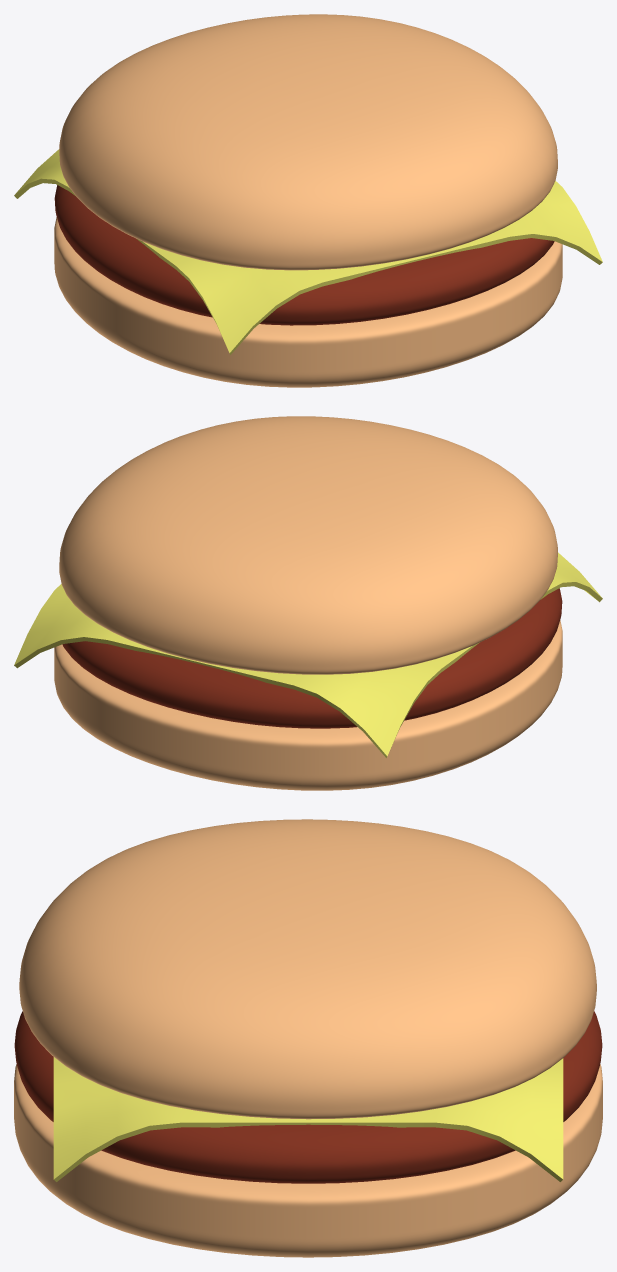
The model's file is humberger.glb.
3 renders of one model, top to bottom at view 1: azimuth 30°, elevation 25°; view 2: azimuth 150°, elevation 25°; view 3: azimuth 270°, elevation 25°, orthographic. The views are drawn at different scales.
Parts seen in each view (by area): view 1: Cube.002, Cube, Cube.001, Plane; view 2: Cube.002, Cube, Cube.001, Plane; view 3: Cube.002, Cube, Cube.001, Plane.
Boxes of the visible parts, x1,y1,x2,y2 form: Cube.002: [59, 14, 557, 270]; Cube: [54, 217, 562, 387]; Cube.001: [54, 185, 554, 325]; Plane: [14, 149, 602, 354]; Cube.002: [59, 416, 557, 674]; Cube: [54, 620, 562, 790]; Cube.001: [62, 588, 562, 728]; Plane: [14, 552, 602, 757]; Cube.002: [19, 819, 596, 1119]; Cube: [14, 1064, 602, 1257]; Cube.001: [14, 1011, 602, 1183]; Plane: [53, 1057, 563, 1181].
Size of the model in its own units: 9.17 by 4.7 by 9.17.
